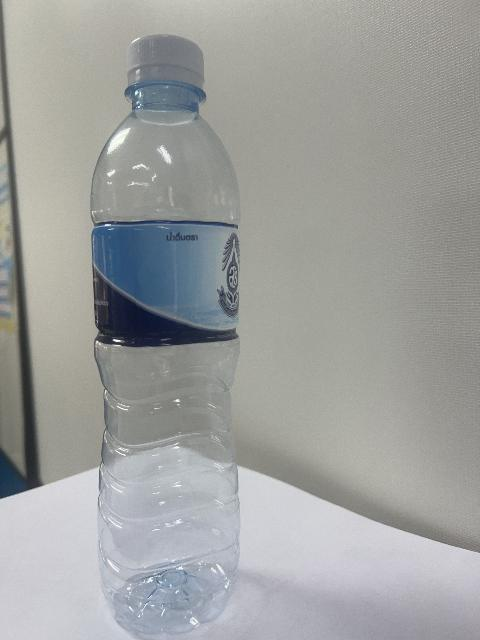bottle: (92, 36, 239, 637)
